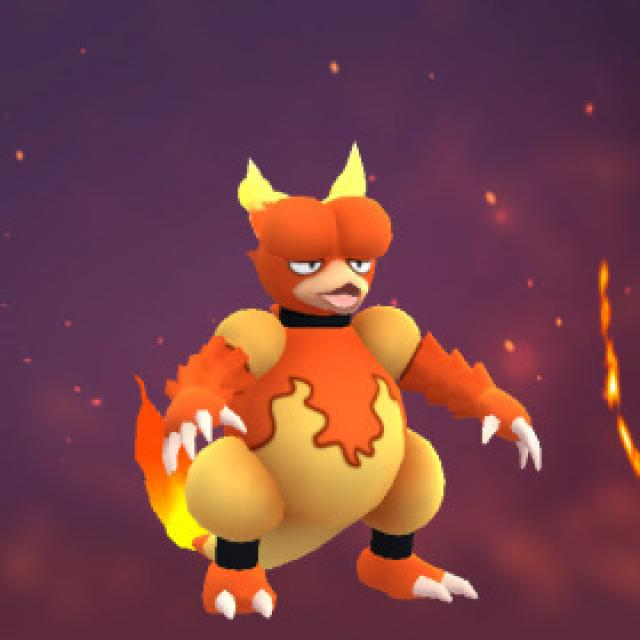Magmar: (171, 177, 441, 620)
